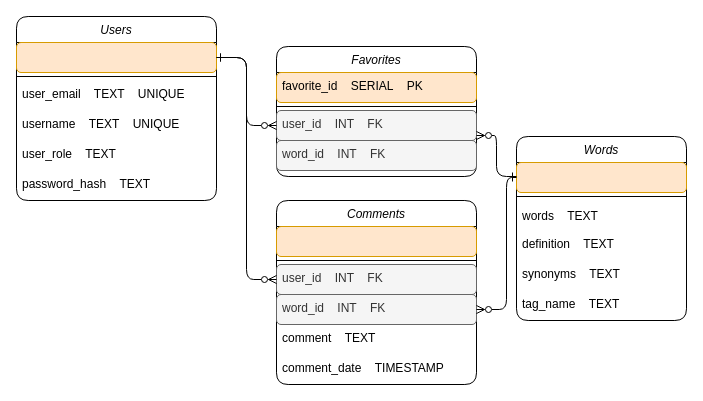
Some shapes in this 703 by 401 pixel diagram are drawn without their labels. The centre of each missing label's shape, as x and y in pixels:
comment_id SERIAL PK: [376,241]
user_id SERIAL PK: [116,57]
words_id SERIAL PK: [601,177]
